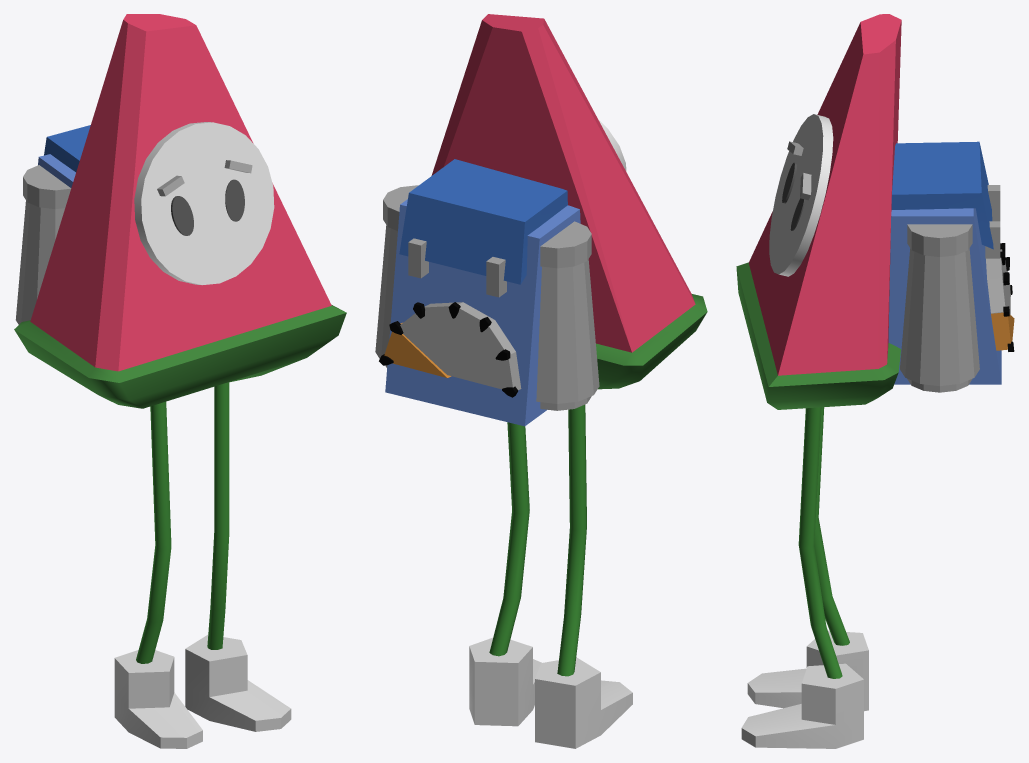
The model's file is Player.fbx.
3 renders of one model, left to right at view 1: azimuth 30°, elevation 25°; view 2: azimuth 150°, elevation 25°; view 3: azimuth 270°, elevation 25°, orthographic. The views are drawn at different scales.
Parts seen in each view (by area): view 1: UpBody, Face, DBody, pCylinder8, pCylinder9, pCube4, pCube3, pCylinder28, pCylinder27, pCube16, ER, EL (+1 smaller); view 2: UpBody, pCube19, pCube16, pCylinder28, pCylinder62, pCylinder9, pCylinder8, pCube4, pCube3, DBody, pCylinder27, pCylinder25 (+4 smaller); view 3: UpBody, pCylinder25, pCylinder8, pCube16, DBody, pCube19, Face, pCube3, pCylinder9, pCylinder26, pCube4, pCylinder62 (+1 smaller).
Part boxes in pixels (x1,y1,x2,y2): UpBody: (30, 14, 331, 371); Face: (134, 122, 274, 285); DBody: (14, 304, 346, 408); pCylinder8: (185, 634, 291, 731); pCylinder9: (114, 650, 202, 748); pCube4: (136, 401, 171, 663); pCube3: (207, 382, 229, 649); pCylinder28: (15, 200, 64, 324); pCylinder27: (23, 165, 71, 209); pCube16: (44, 125, 90, 172); ER: (171, 196, 193, 235); EL: (225, 179, 244, 221); UpBody: (431, 14, 695, 352); pCube19: (385, 199, 580, 426); pCube16: (399, 159, 567, 284); pCylinder28: (536, 259, 599, 403); pCylinder62: (400, 302, 521, 390); pCylinder9: (535, 657, 632, 748); pCylinder8: (469, 637, 541, 726); pCube4: (557, 404, 586, 676); pCube3: (489, 422, 529, 656); DBody: (596, 294, 707, 389); pCylinder27: (540, 221, 591, 268); pCylinder25: (375, 225, 397, 358); UpBody: (749, 14, 901, 375); pCylinder25: (900, 248, 979, 385); pCylinder8: (741, 663, 863, 748); pCube16: (891, 141, 993, 249); DBody: (736, 262, 900, 409); pCube19: (888, 208, 1001, 384); Face: (769, 114, 833, 276); pCube3: (798, 407, 842, 678); pCylinder9: (747, 630, 868, 711); pCylinder26: (907, 224, 972, 256); pCube4: (814, 407, 849, 645); pCylinder62: (986, 249, 1010, 314).
Bounding box in the file's own units: 166 × 405 × 148.
